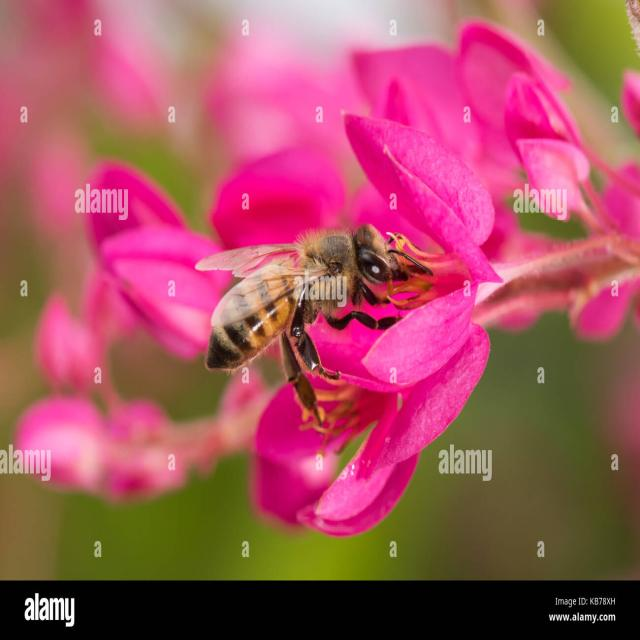Apis-mellifera-scutellata: (194, 202, 438, 440)
